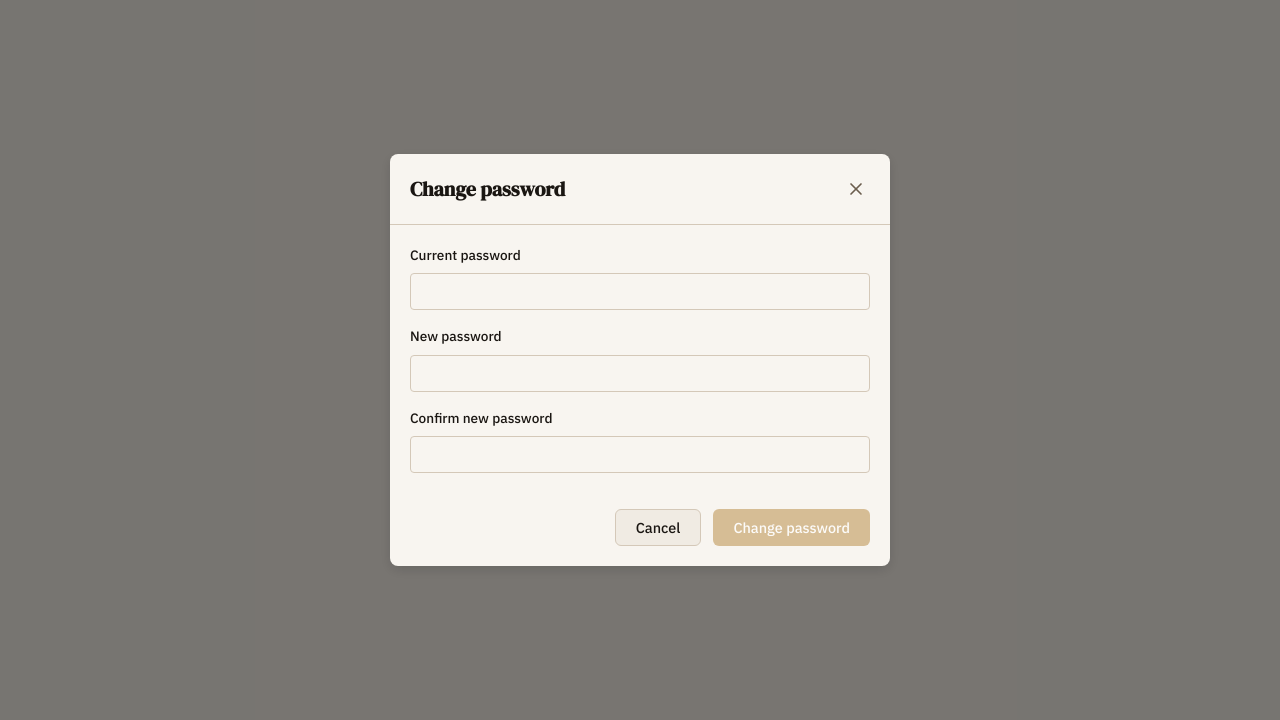
ChangePasswordModal › shows the mismatch validation hint when confirm differs from new
Type "newpassword" into the password field with id "new-password". click: x=640, y=373
box: [410,355,870,392]
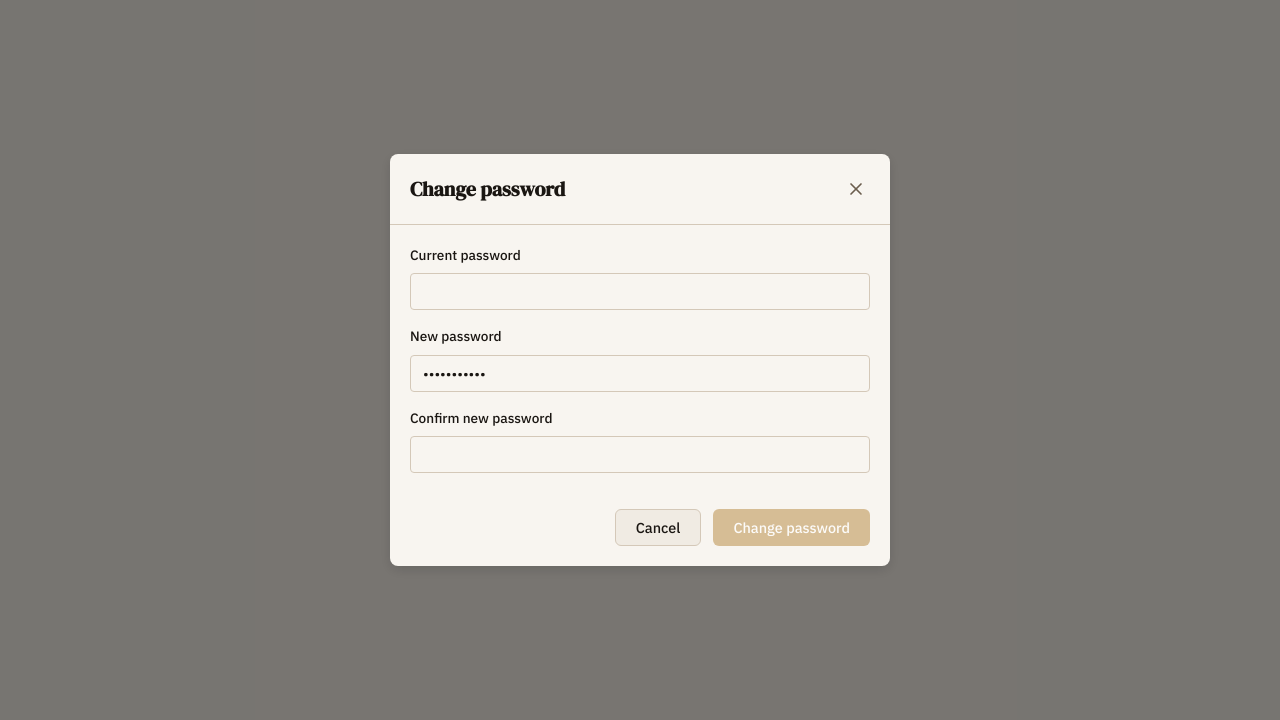
Type "differentpwd" into the password field with id "confirm-new-password". click: x=640, y=455
box: [410,436,870,473]
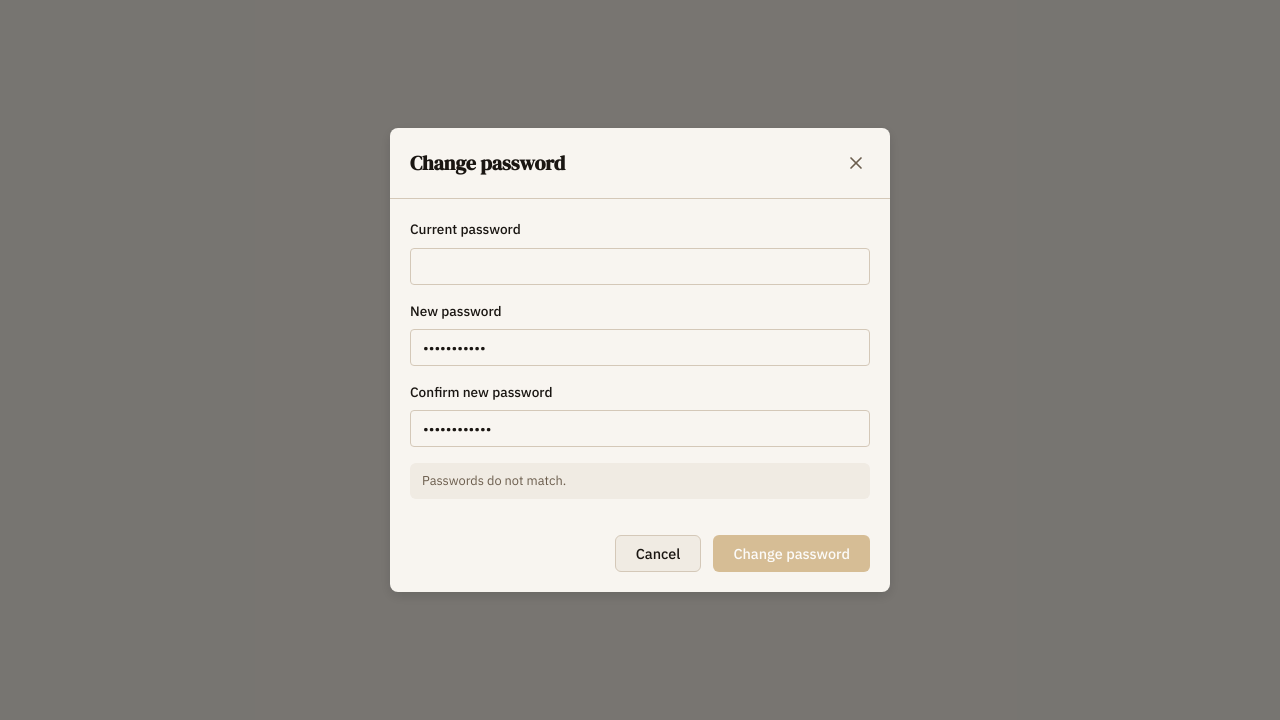
Expected: the text "Passwords do not match." is shown, [410,464,870,499]
